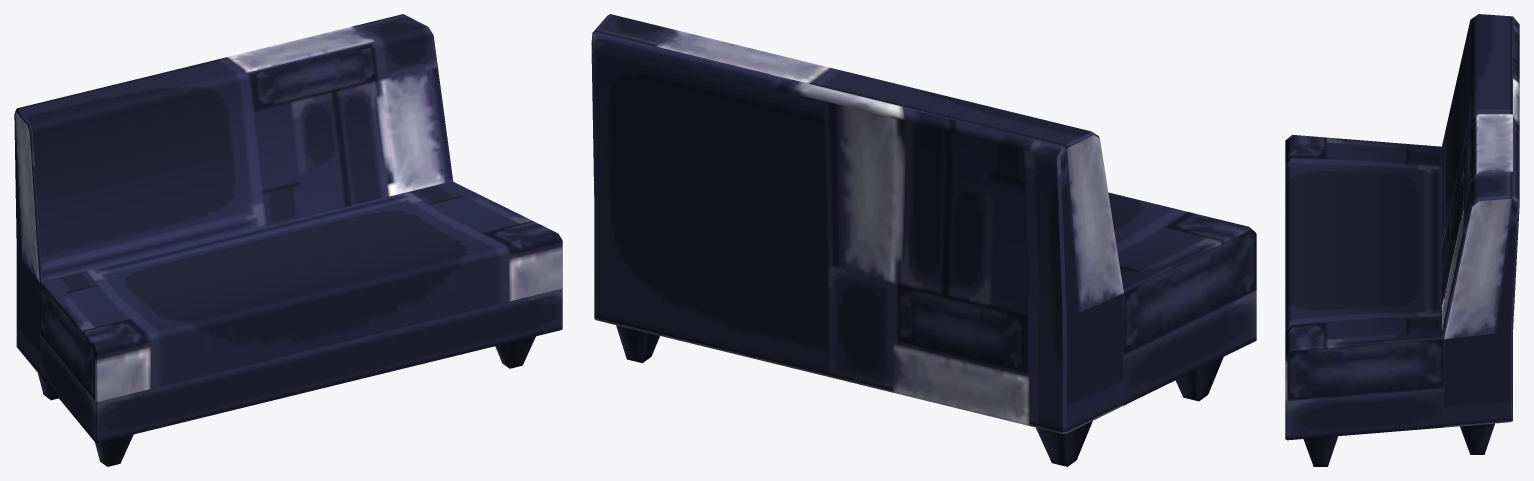
File: rmk_mnc_chairL.dae
3 renders of one model, left to right at view 1: azimuth 30°, elevation 25°; view 2: azimuth 150°, elevation 25°; view 3: azimuth 270°, elevation 25°, orthographic. The views are drawn at different scales.
Visible parts, largest first — view 1: rmk_mnc_chairL; view 2: rmk_mnc_chairL; view 3: rmk_mnc_chairL.
Part boxes in pixels (<box>): rmk_mnc_chairL: <box>14,14,562,466</box>; rmk_mnc_chairL: <box>591,14,1256,466</box>; rmk_mnc_chairL: <box>1285,14,1519,466</box>.
Size of the model in its own units: 57.6 by 32.8 by 26.36.
1 material, 1 textured.
